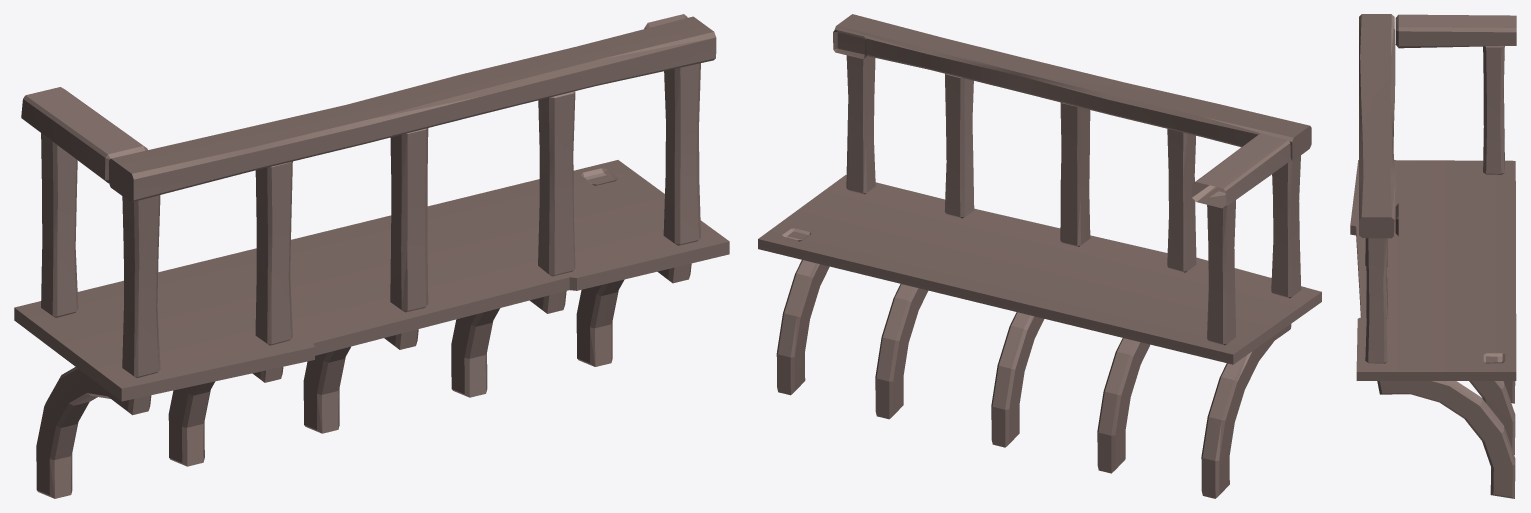
The model's file is Balcony_cut_left.fbx.
3 renders of one model, left to right at view 1: azimuth 30°, elevation 25°; view 2: azimuth 150°, elevation 25°; view 3: azimuth 270°, elevation 25°, orthographic. The views are drawn at different scales.
Parts seen in each view (by area): view 1: balcony_B; view 2: balcony_B; view 3: balcony_B.
Boxes of the visible parts, bbox=[...] form: balcony_B: bbox=[14, 14, 729, 498]; balcony_B: bbox=[758, 14, 1321, 498]; balcony_B: bbox=[1350, 14, 1516, 498].
Bounding box in the file's own units: 0.3364 × 0.2118 × 0.1117.
